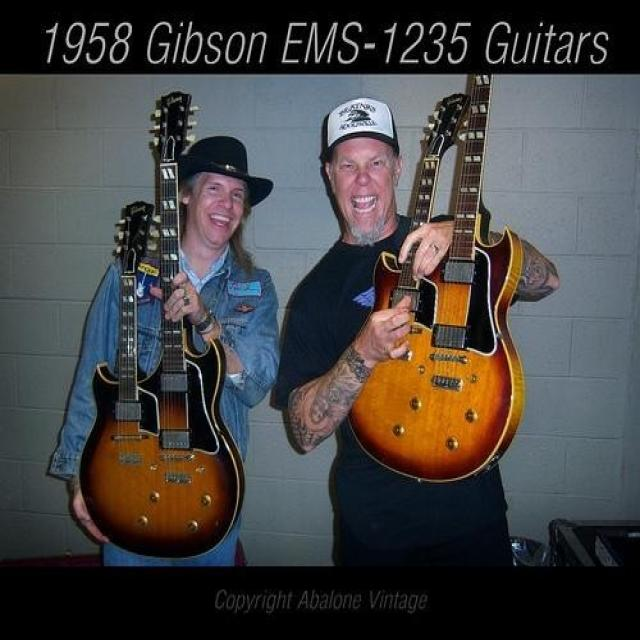guitar: (76, 89, 247, 565), (340, 73, 526, 486)
